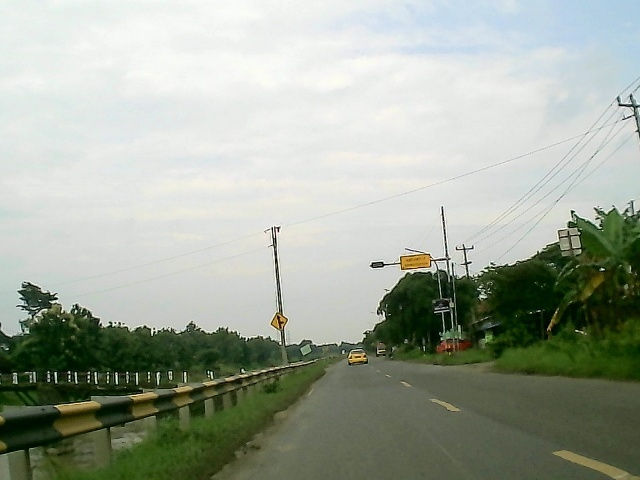Simpang kanan dengan prioritas: (268, 312, 289, 333)
